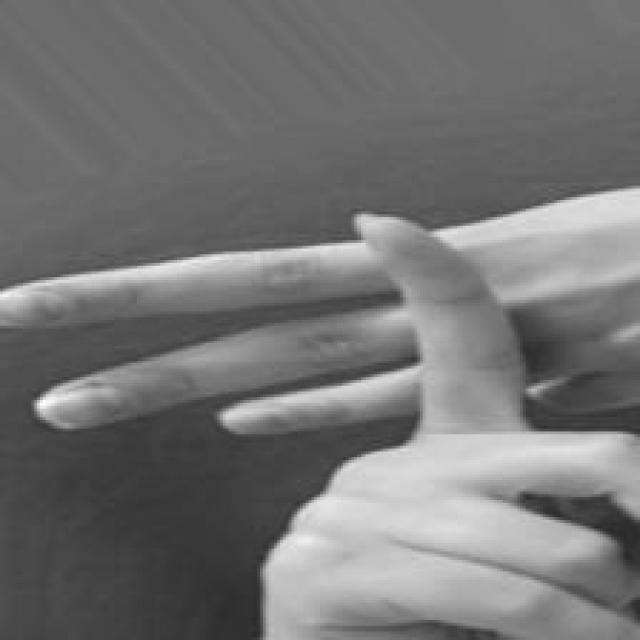E: (1, 202, 640, 640)
